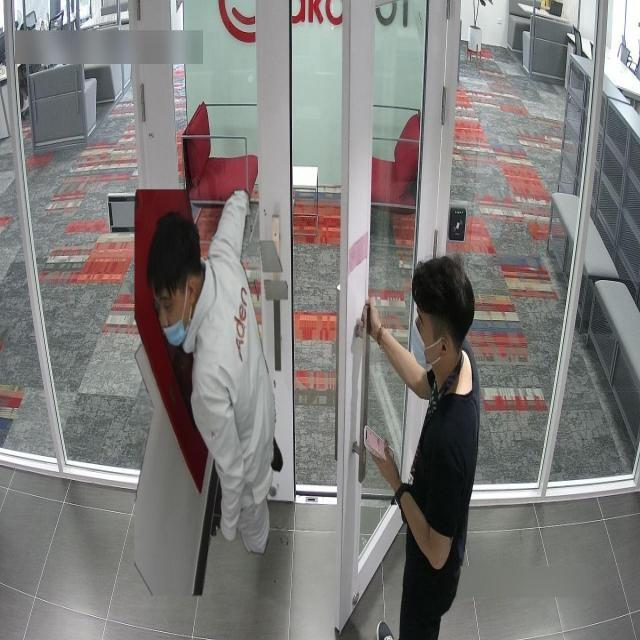hairnet: (154, 288, 187, 347)
